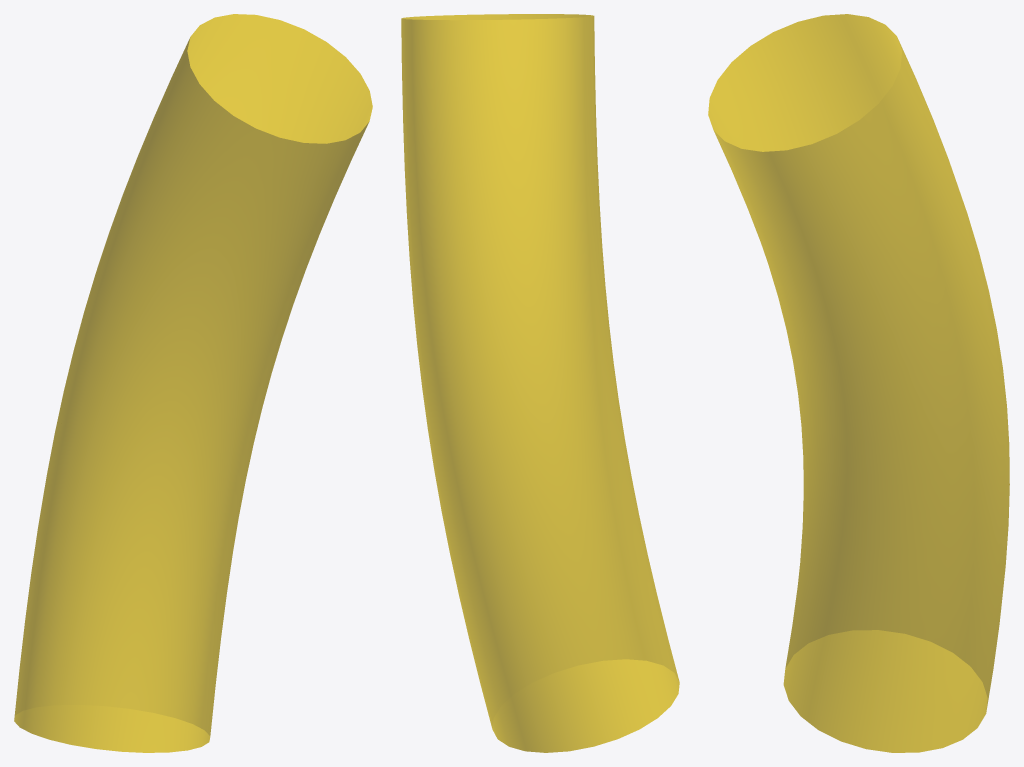
File: Event_100608114_track_101.fbx
The picture shows the model from 3 angles, left to right: view 1: azimuth 30°, elevation 25°; view 2: azimuth 150°, elevation 25°; view 3: azimuth 270°, elevation 25°; orthographic projection. The views are drawn at different scales.
Visible parts, largest first — view 1: Model; view 2: Model; view 3: Model.
Boxes of the visible parts, bbox=[...] form: Model: bbox=[14, 14, 372, 752]; Model: bbox=[401, 14, 679, 752]; Model: bbox=[708, 14, 1009, 752].
Bounding box in the file's own units: 0.0692 × 0.1567 × 0.0584.
